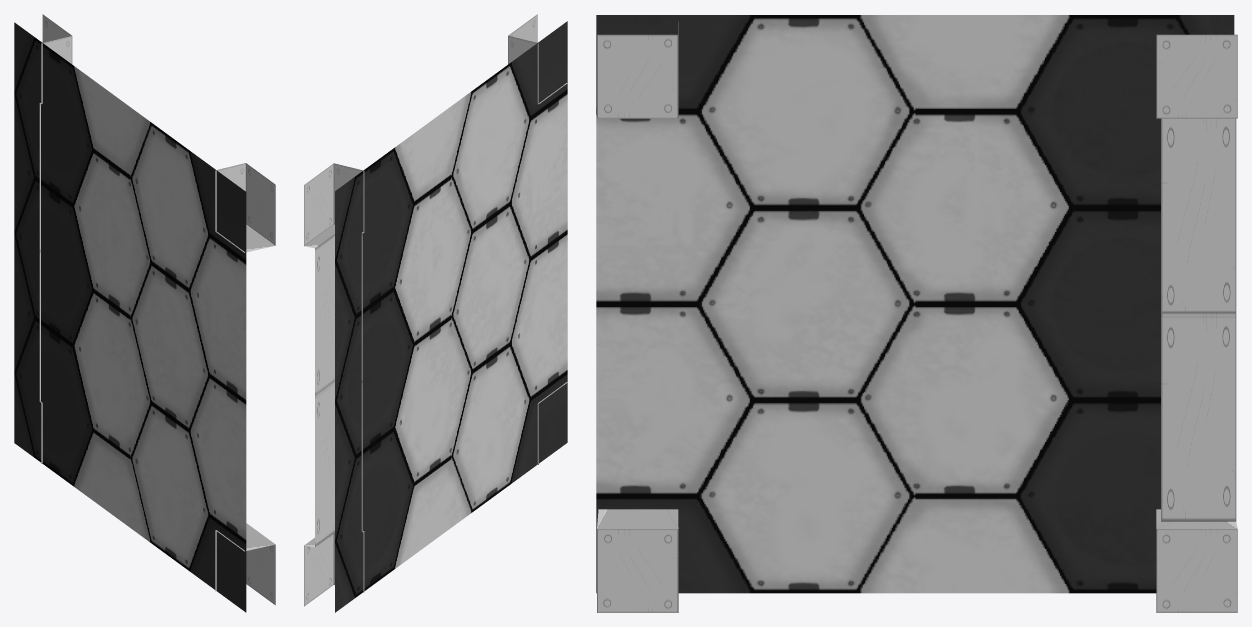
Rendered from Wall_RightCorners.fbx.
3 views of the same model, side by side, from view 1: azimuth 30°, elevation 25°; view 2: azimuth 150°, elevation 25°; view 3: azimuth 270°, elevation 25° (orthographic). The views are drawn at different scales.
Parts seen in each view (by area): view 1: pPlane131; view 2: pPlane131; view 3: pPlane131.
Part boxes in pixels (x1,y1,x2,y2): pPlane131: (14, 14, 275, 612); pPlane131: (304, 14, 567, 612); pPlane131: (596, 15, 1237, 612).
Size of the model in its own units: 0.1534 by 2 by 2.01.
